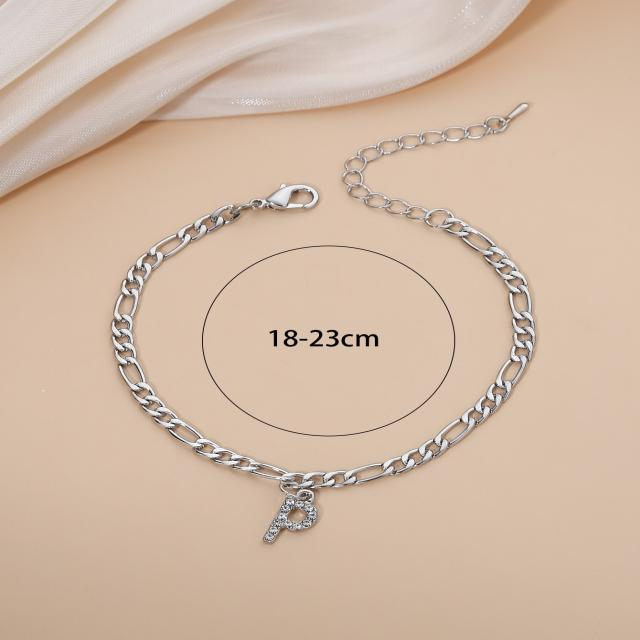bracelet: (49, 20, 640, 597)
